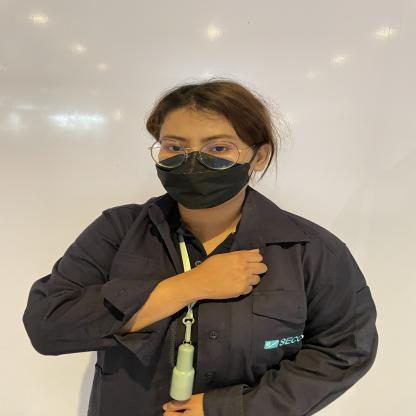Sadness: (49, 232, 307, 354)
